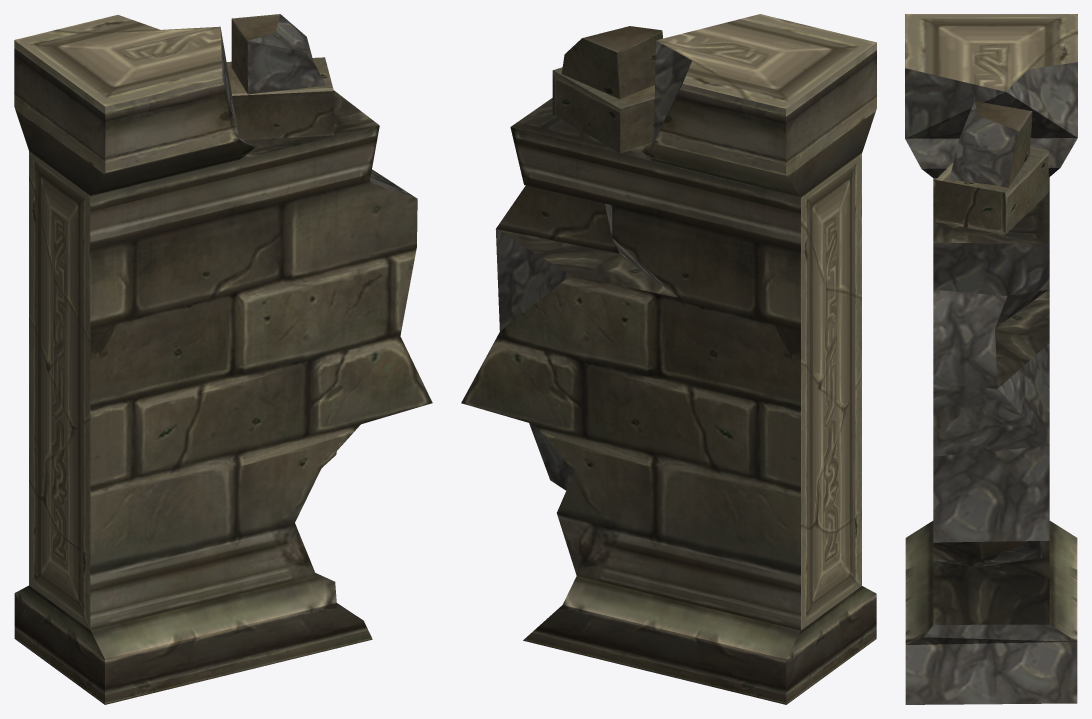
The model's file is F_neiqiang015.fbx.
The picture shows the model from 3 angles, left to right: view 1: azimuth 30°, elevation 25°; view 2: azimuth 150°, elevation 25°; view 3: azimuth 270°, elevation 25°; orthographic projection. The views are drawn at different scales.
Visible parts, largest first — view 1: F_neiqiang015; view 2: F_neiqiang015; view 3: F_neiqiang015.
Part boxes in pixels (x1=…): F_neiqiang015: x1=14, y1=14, x2=432, y2=704; F_neiqiang015: x1=461, y1=14, x2=876, y2=704; F_neiqiang015: x1=905, y1=14, x2=1077, y2=704.
Size of the model in its own units: 198 by 331 by 91.42.
